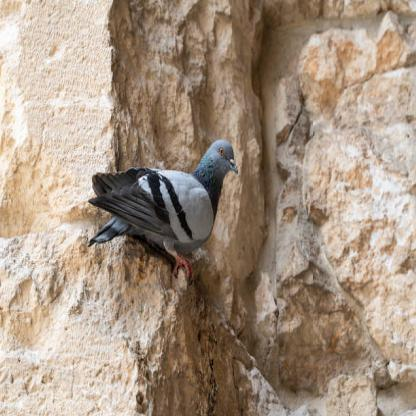Rock Pigeon: (82, 141, 239, 260)
